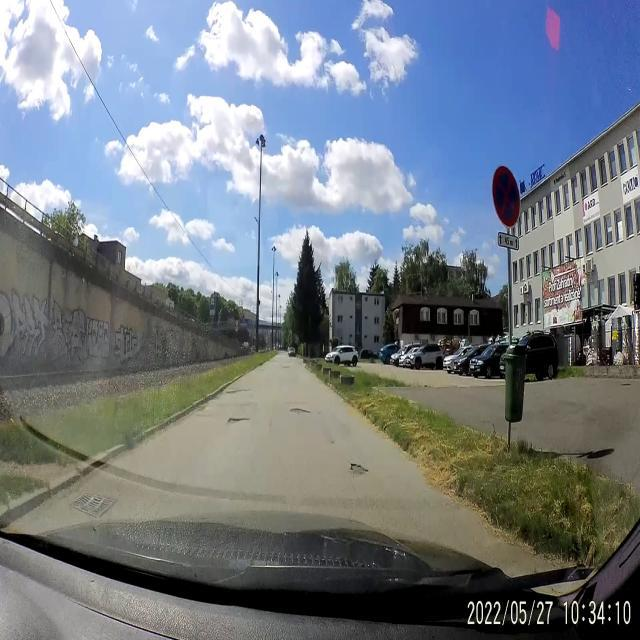Manhole: (74, 486, 117, 520)
Pothole: (344, 458, 372, 484), (222, 412, 252, 426), (286, 404, 312, 420), (223, 386, 250, 398)
